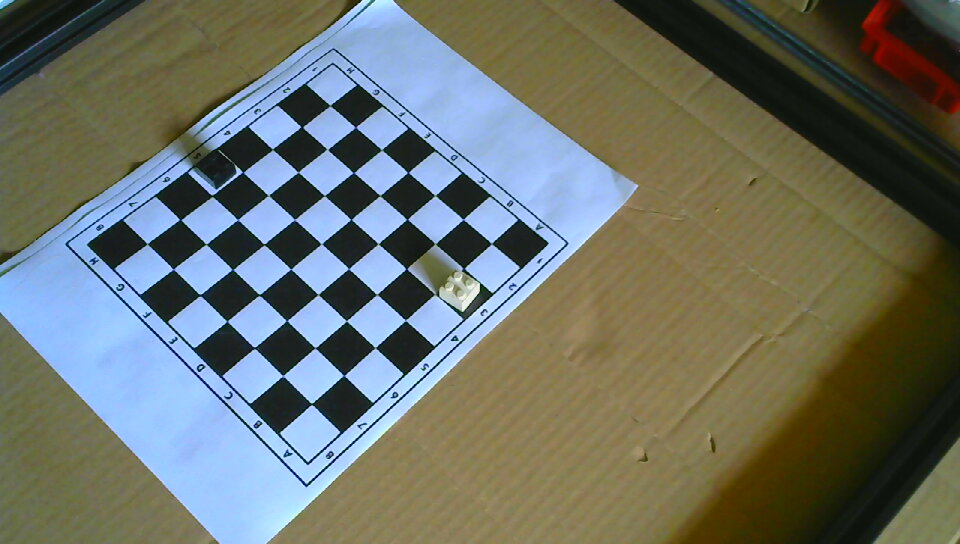bp: (194, 146, 238, 190)
wp: (436, 266, 481, 312)
